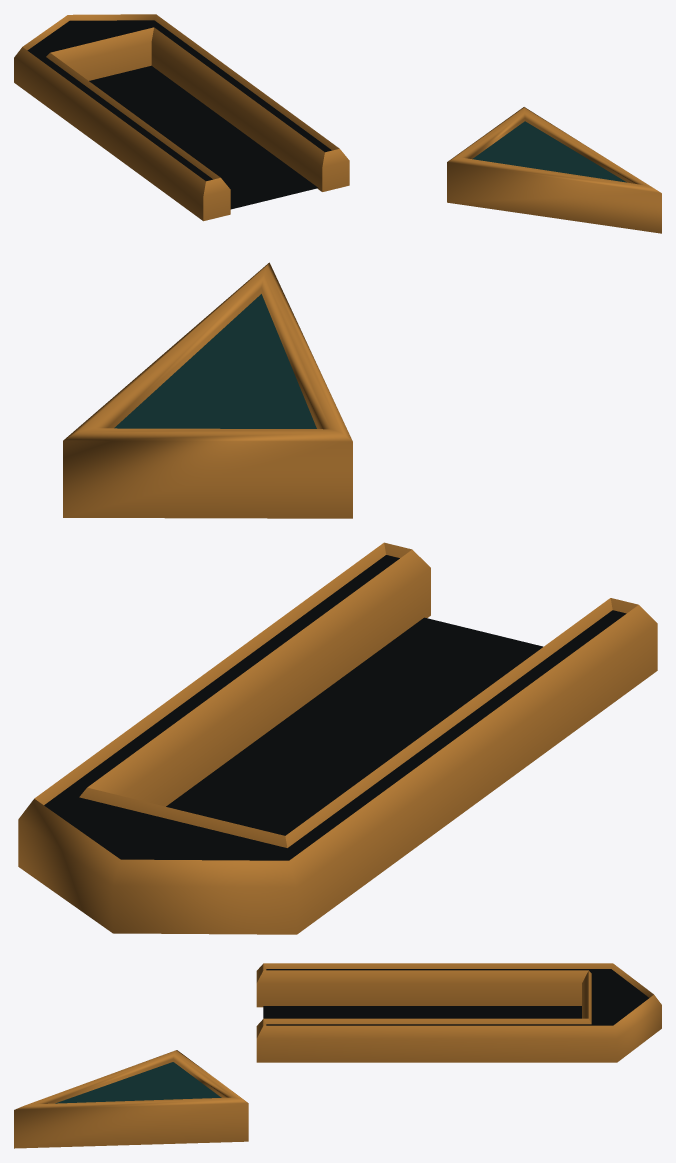
File: supernova-plastics.dae
3 renders of one model, top to bottom at view 1: azimuth 30°, elevation 25°; view 2: azimuth 150°, elevation 25°; view 3: azimuth 270°, elevation 25°, orthographic. The views are drawn at different scales.
Parts seen in each view (by area): view 1: accent, dark, block_art; view 2: accent, dark, block_art; view 3: accent, dark, block_art.
Part boxes in pixels (x1,y1,x2,y2): accent: [14, 14, 661, 233]; dark: [27, 20, 331, 209]; block_art: [472, 121, 626, 182]; accent: [18, 262, 657, 934]; dark: [44, 555, 626, 860]; block_art: [114, 294, 316, 428]; accent: [14, 963, 661, 1148]; dark: [263, 969, 648, 1025]; block_art: [55, 1062, 221, 1103].
Size of the model in its own units: 0.2228 by 0.0276 by 0.3964.
